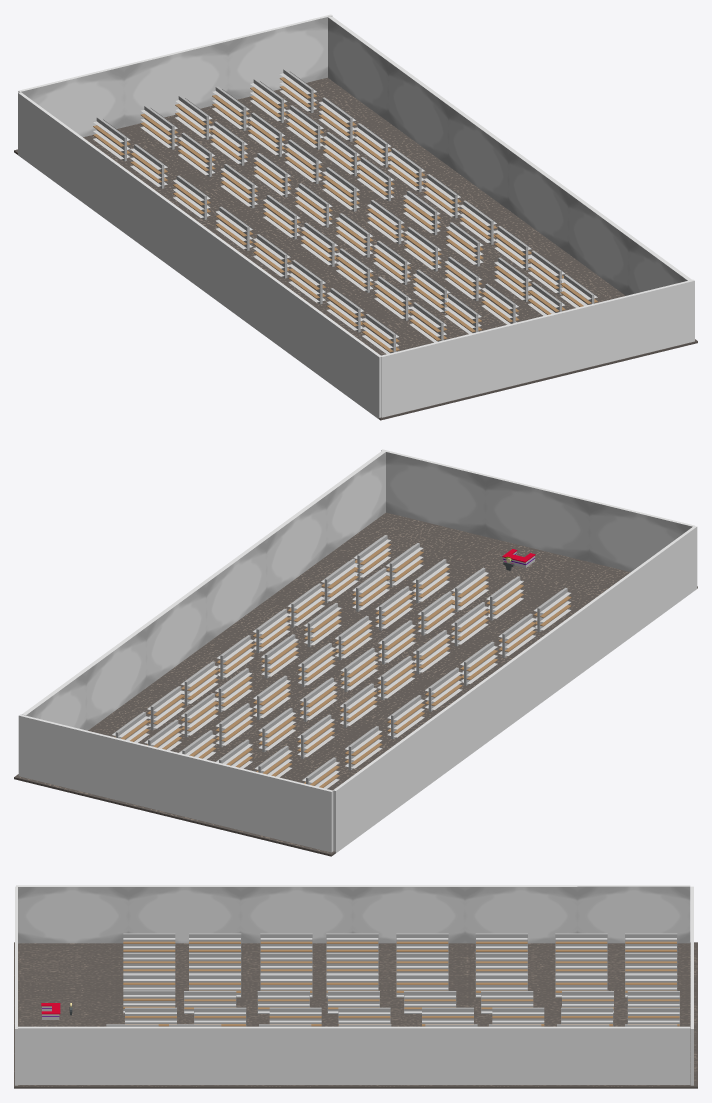
Rendered from Store.glb.
The picture shows the model from 3 angles, top to bottom: view 1: azimuth 30°, elevation 25°; view 2: azimuth 150°, elevation 25°; view 3: azimuth 270°, elevation 25°; orthographic projection. The views are drawn at different scales.
Visible parts, largest first — view 1: Cube.042, Cube.033, Cube.032, Cube.043, Cube.047, Cube.044, Cube.035, Cube.037, Cube.038, Cube.039, Cube.040, Cube.036 (+21 smaller); view 2: Cube.044, Cube.047, Cube.043, Cube.032, Cube.042, Cube.033, Cube, Cube.002, Cube.040, Cube.035, Cube.036, Cube.037 (+21 smaller); view 3: Cube.053, Cube.052, Cube.049, Cube.050, Cube.051, Cube.048, Cube.035, Cube.039, Cube.040, Cube.038, Cube.037, Cube.036 (+59 smaller).
Part boxes in pixels (bbox=[...]): Cube.042: bbox=[589, 279, 694, 366]; Cube.033: bbox=[380, 330, 485, 417]; Cube.032: bbox=[484, 305, 590, 392]; Cube.043: bbox=[122, 40, 228, 127]; Cube.047: bbox=[227, 14, 332, 99]; Cube.044: bbox=[18, 65, 123, 137]; Cube.035: bbox=[319, 312, 381, 419]; Cube.037: bbox=[198, 224, 261, 330]; Cube.038: bbox=[138, 180, 201, 286]; Cube.039: bbox=[78, 136, 141, 242]; Cube.040: bbox=[18, 92, 80, 198]; Cube.036: bbox=[258, 268, 321, 375]; Cube.044: bbox=[227, 765, 333, 852]; Cube.047: bbox=[18, 714, 124, 801]; Cube.043: bbox=[123, 740, 228, 826]; Cube.032: bbox=[485, 475, 590, 561]; Cube.042: bbox=[381, 449, 486, 536]; Cube.033: bbox=[589, 500, 694, 571]; Cube: bbox=[446, 536, 589, 605]; Cube.002: bbox=[327, 512, 483, 577]; Cube.040: bbox=[333, 746, 396, 853]; Cube.035: bbox=[634, 526, 697, 632]; Cube.036: bbox=[574, 570, 636, 676]; Cube.037: bbox=[514, 614, 576, 720]; Cube.053: bbox=[577, 1026, 690, 1084]; Cube.052: bbox=[464, 1026, 577, 1084]; Cube.049: bbox=[128, 1026, 240, 1084]; Cube.050: bbox=[240, 1026, 353, 1084]; Cube.051: bbox=[352, 1026, 465, 1084]; Cube.048: bbox=[16, 1026, 128, 1084]; Cube.035: bbox=[16, 885, 128, 943]; Cube.039: bbox=[464, 885, 577, 943]; Cube.040: bbox=[577, 885, 690, 943]; Cube.038: bbox=[352, 885, 465, 943]; Cube.037: bbox=[240, 885, 352, 943]; Cube.036: bbox=[128, 885, 240, 943].
Bounding box in the file's own units: 32.77 × 6.17 × 65.49.
12 materials, 4 textured.
